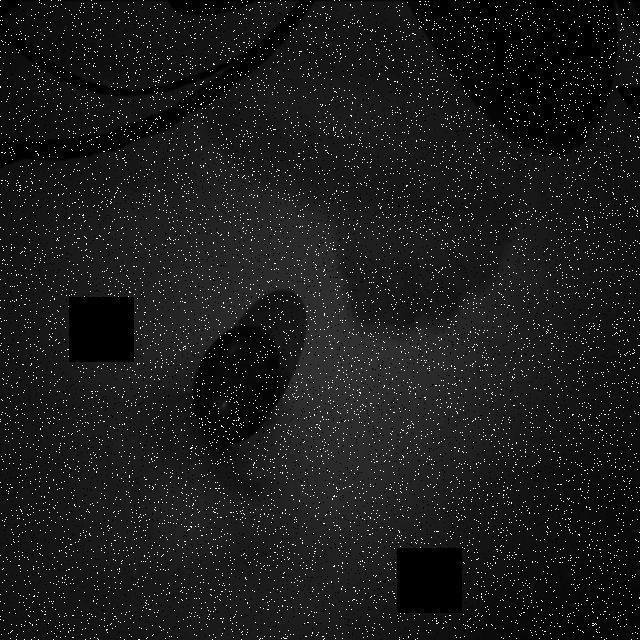egg: (192, 312, 286, 448)
